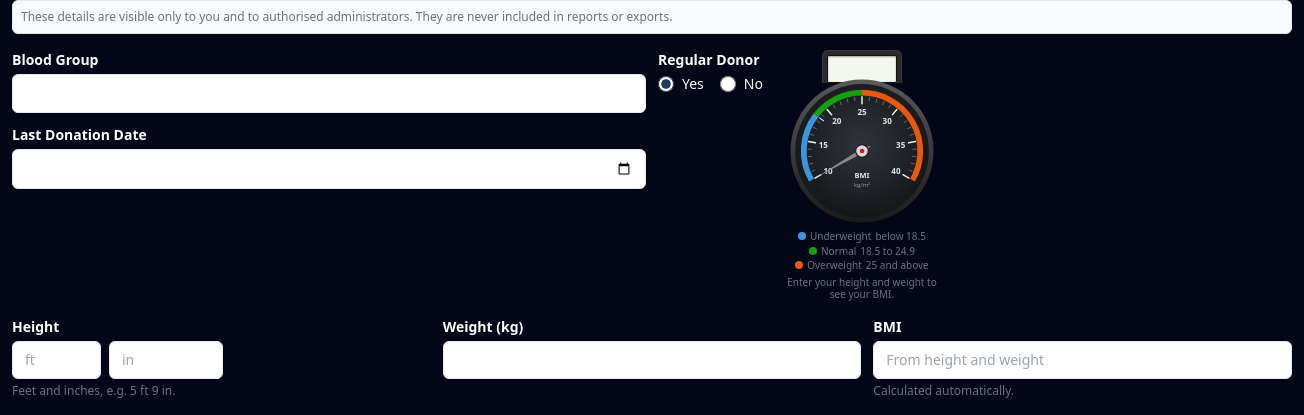
Test: Tab 6 — Health & Fitness › shows the donation date only for a donor, and clears it on No
Expected: the date field labelled "Last Donation Date" is shown, [12, 149, 646, 189]
What coordinates should you click on to do the following:
click the radio button labelled "No"
I would click on:
 (728, 84)
Its box is [720, 76, 736, 92].
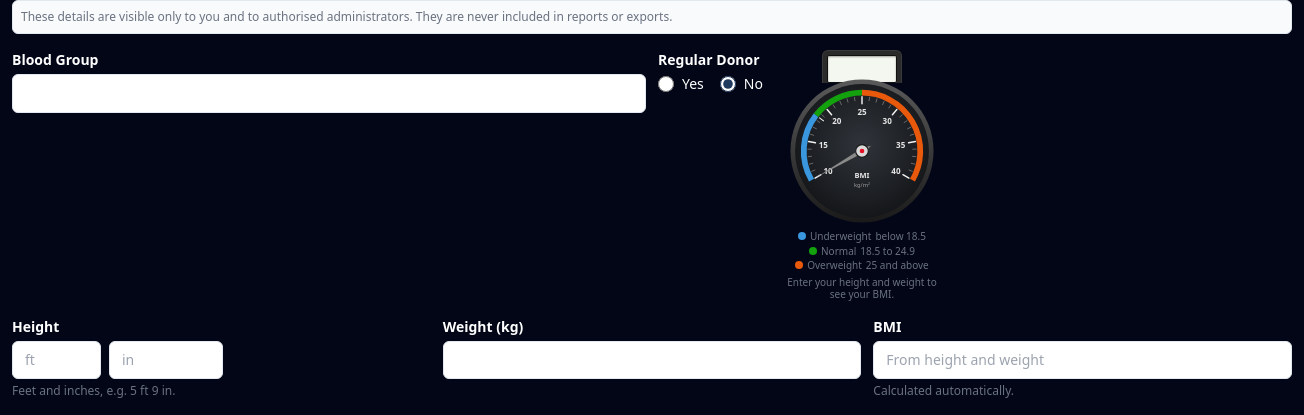
Expected: the text labelled "Last Donation Date" is gone
